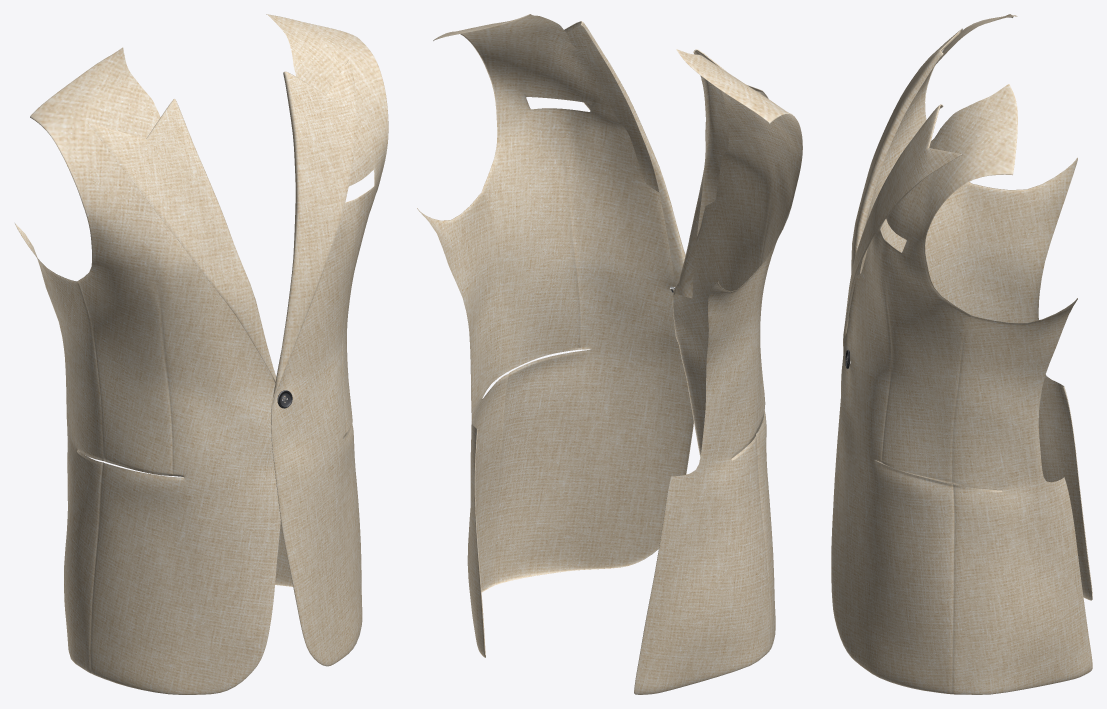
The model's file is single.glb.
The picture shows the model from 3 angles, left to right: view 1: azimuth 30°, elevation 25°; view 2: azimuth 150°, elevation 25°; view 3: azimuth 270°, elevation 25°; orthographic projection. The views are drawn at different scales.
Parts seen in each view (by area): view 1: peak_single_button3; view 2: peak_single_button3; view 3: peak_single_button3.
Boxes of the visible parts, x1,y1,x2,y2 form: peak_single_button3: [15, 14, 388, 694]; peak_single_button3: [417, 14, 802, 694]; peak_single_button3: [831, 14, 1092, 694].
Size of the model in its own units: 0.0585 by 0.102 by 0.0411.
Materials: 4 (3 with a texture image).
